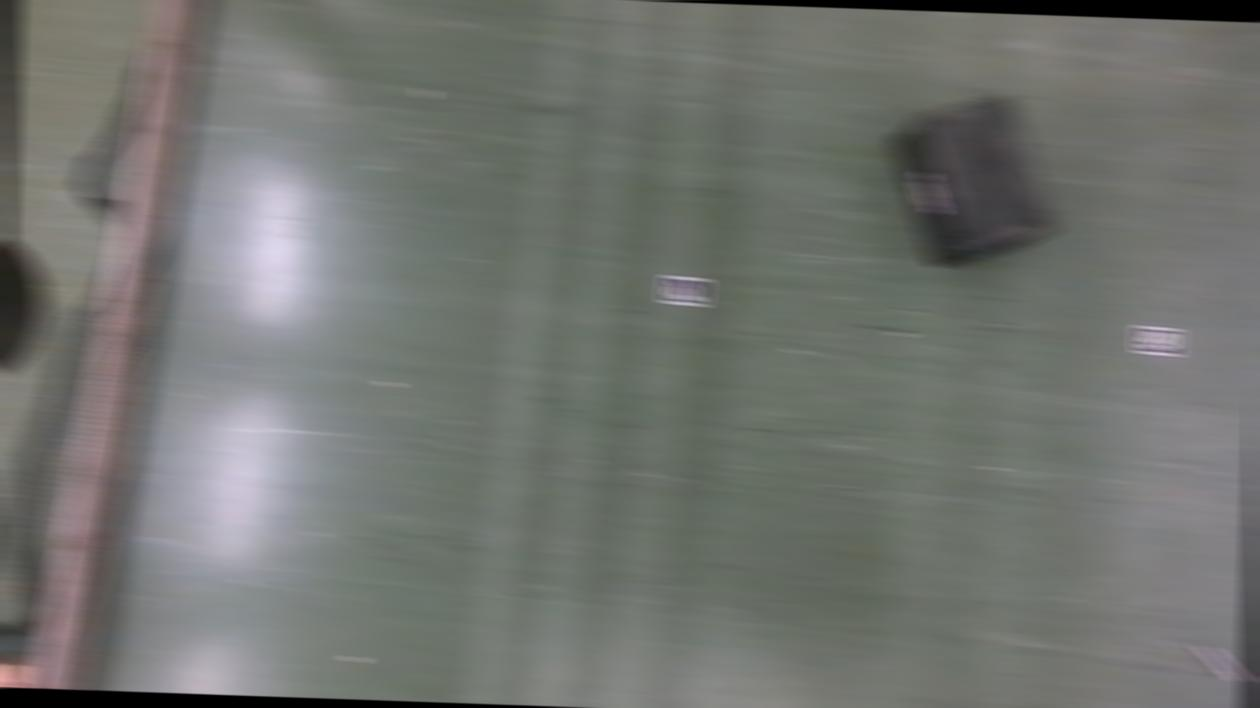probes: (1191, 640, 1247, 681)
rako: (891, 94, 1058, 266)
